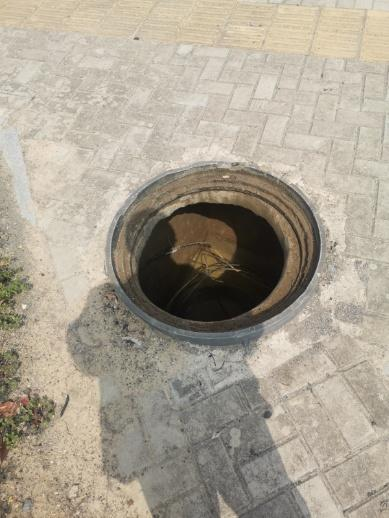wellcover: (108, 164, 331, 333)
